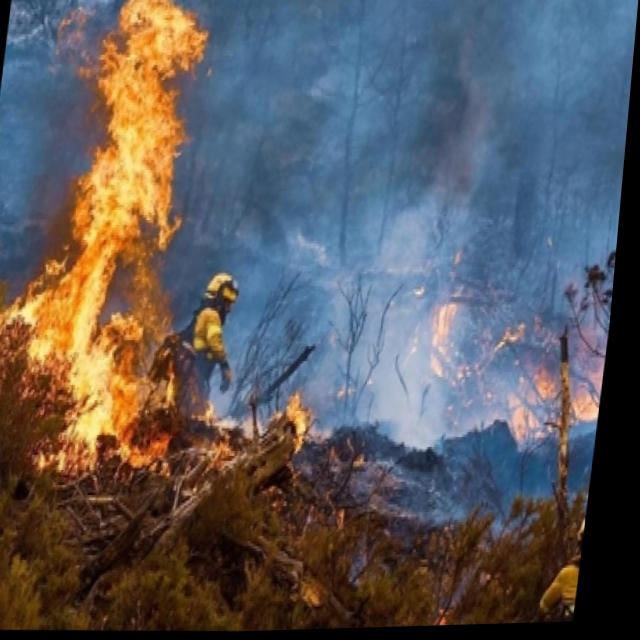Fire: (0, 0, 229, 505), (410, 288, 619, 470), (229, 390, 338, 495)
